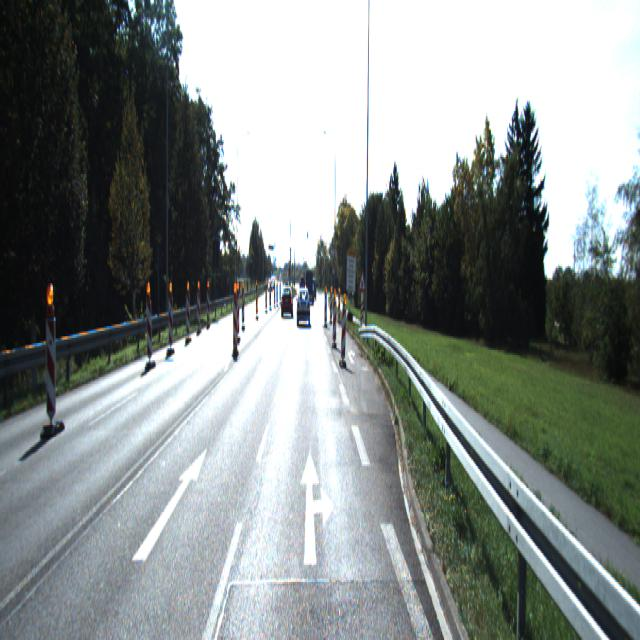Car: (297, 289, 310, 325), (281, 288, 293, 320)
